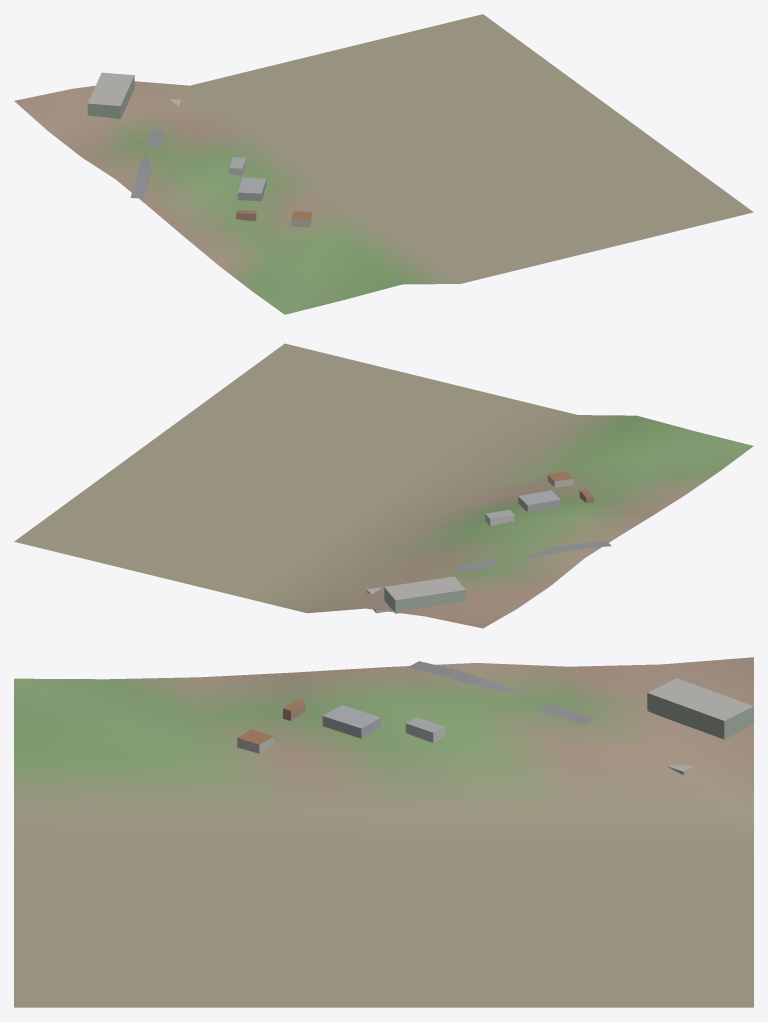
3 views of the same model, one above another, from view 1: azimuth 30°, elevation 25°; view 2: azimuth 150°, elevation 25°; view 3: azimuth 270°, elevation 25° (orthographic). The views are drawn at different scales.
Visible parts, largest first — view 1: Lo; view 2: Lo; view 3: Lo.
Boxes of the visible parts, x1,y1,x2,y2 form: Lo: (14, 14, 753, 314); Lo: (14, 343, 753, 628); Lo: (14, 657, 753, 1007).
Size of the model in its own units: 259 by 18.28 by 256.
